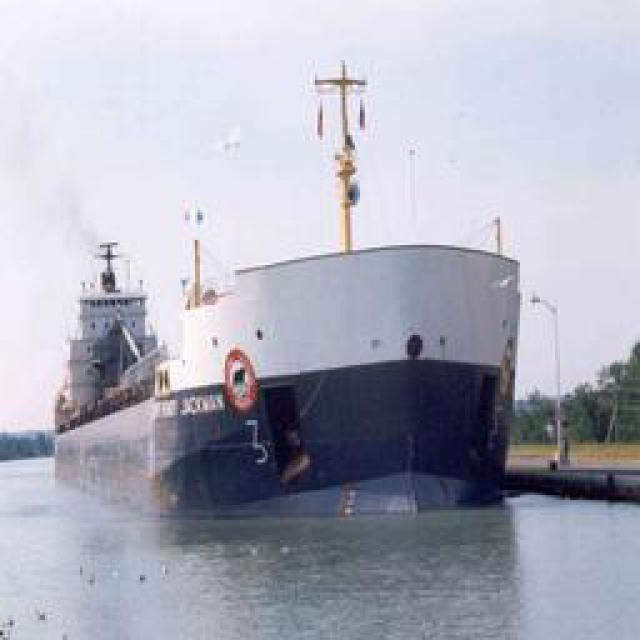Ship: (105, 226, 520, 509)
